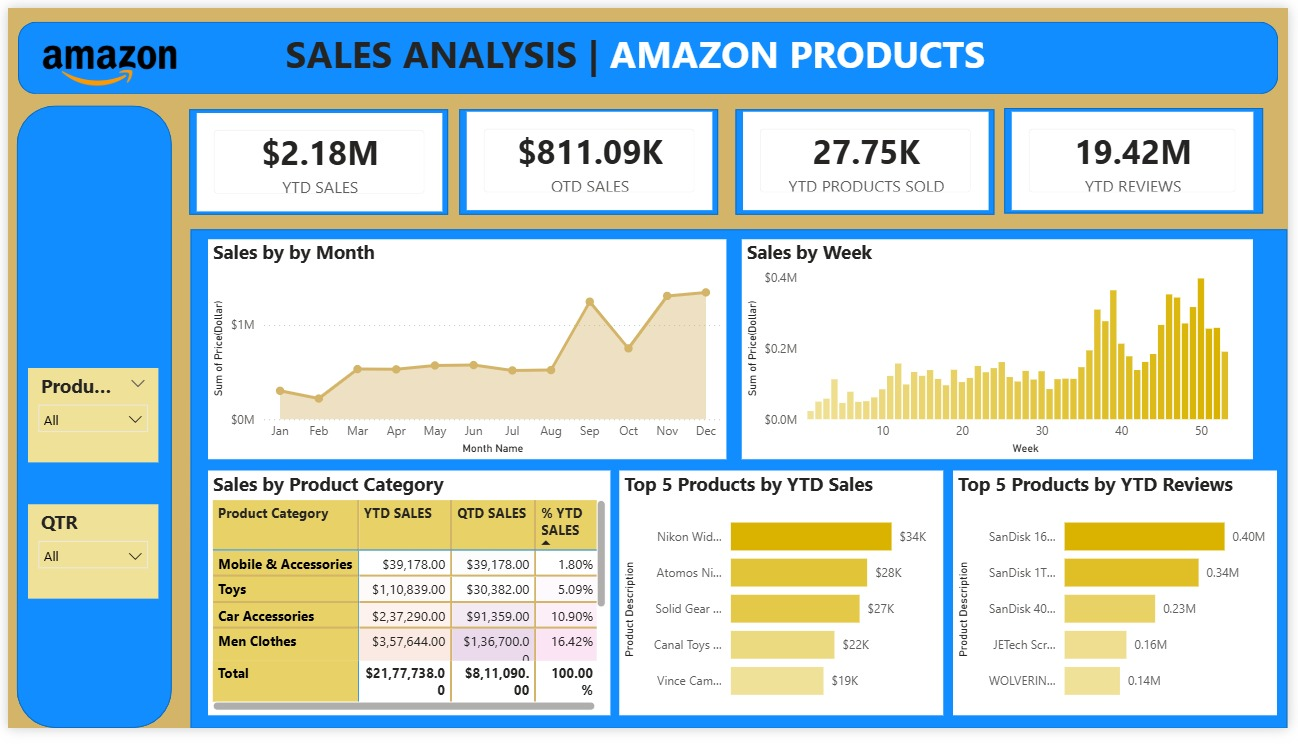

This screenshot's page, from the dashboard's own definition file:
{"tool":"powerbi","page":{"name":"Page 1","canvas":[1280,720],"ordinal":0},"visuals":[{"type":"shape","box":[9.8,13.5,1260.1,72.4],"z":0},{"type":"shape","box":[996.3,99.4,258.9,105.5],"z":0,"group":"g2"},{"type":"shape","box":[181.6,100.6,258.9,105.5],"z":0,"group":"g1"},{"type":"textbox","box":[273.1,15.1,731.4,63.1],"z":1000},{"type":"cardVisual","fields":{"Data":["Amazon_Data.YTD REVIEWS"]},"box":[1003.7,103.1,241.7,98.2],"z":1000,"group":"g2"},{"type":"cardVisual","fields":{"Data":["Amazon_Data.YTD SALES"]},"box":[189,104.3,245.4,98.2],"z":1000,"group":"g1"},{"type":"shape","box":[8.2,98.8,155,622],"z":2000},{"type":"group","id":"g1","title":"Group 1","box":[181.6,100.6,804.9,105.5],"z":2000,"group":"g2"},{"type":"shape","box":[451.5,100.6,258.9,105.5],"z":2000,"group":"g1"},{"type":"shape","box":[8.2,98,155,622],"z":3000},{"type":"shape","box":[727.6,100.6,258.9,105.5],"z":3000,"group":"g1"},{"type":"group","id":"g2","title":"Group 2","box":[181.6,99.4,1073.6,106.7],"z":4000},{"type":"cardVisual","fields":{"Data":["Amazon_Data.YTD SALES"]},"box":[458.9,103.1,245.4,98.2],"z":4000,"group":"g1"},{"type":"cardVisual","fields":{"Data":["Amazon_Data.YTD PRODUCTS SOLD"]},"box":[735,103.1,245.4,98.2],"z":5000,"group":"g1"},{"type":"shape","box":[182.8,220.9,1096.9,499.4],"z":5000},{"type":"areaChart","title":"Sales by by Month","fields":{"Category":["Date Table.Month Name"],"Y":["Sum(Amazon_Data.Price(Dollar))"]},"box":[200,231.4,518.6,220],"z":6000},{"type":"columnChart","title":"Sales by Week","fields":{"Category":["Date Table.Week"],"Y":["Sum(Amazon_Data.Price(Dollar))"]},"box":[734.3,231.4,511.4,220],"z":7000},{"type":"pivotTable","title":"Sales by Product Category","fields":{"Rows":["Amazon_Data.Product Category"],"Values":["Amazon_Data.YTD SALES1","Amazon_Data.QTD SALES","Amazon_Data.YTD SALES"]},"box":[200,462.2,402.2,257.8],"z":8000},{"type":"clusteredBarChart","title":"Top 5 Products by YTD Sales","fields":{"Category":["Amazon_Data.Product Description"],"Y":["Amazon_Data.YTD SALES"]},"box":[611.1,462.2,323.3,257.8],"z":9000},{"type":"clusteredBarChart","title":"Top 5 Products by YTD Reviews","fields":{"Category":["Amazon_Data.Product Description"],"Y":["Amazon_Data.YTD REVIEWS"]},"box":[945.6,462.2,323.3,257.8],"z":10000},{"type":"slicer","fields":{"Values":["Amazon_Data.Product Category"]},"box":[20,360,130,94.4],"z":11000},{"type":"slicer","fields":{"Values":["Date Table.QTR"]},"box":[20,496.7,130,94.4],"z":12000},{"type":"image","box":[0,0,203.7,115.3],"z":12001}]}

Visuals, with their boxes in screenshot pixels (x1, y1, x2, y2), scaled from the page's 1280x720 canvas onto the 1298x744 screenshot:
shape: pyautogui.locateOnScreen(10, 14, 1288, 89)
shape: pyautogui.locateOnScreen(1010, 103, 1273, 212)
shape: pyautogui.locateOnScreen(184, 104, 447, 213)
textbox: pyautogui.locateOnScreen(277, 16, 1019, 81)
cardVisual - Amazon_Data.YTD REVIEWS: pyautogui.locateOnScreen(1018, 107, 1263, 208)
cardVisual - Amazon_Data.YTD SALES: pyautogui.locateOnScreen(192, 108, 441, 209)
shape: pyautogui.locateOnScreen(8, 102, 165, 743)
"Group 1" group: pyautogui.locateOnScreen(184, 104, 1000, 213)
shape: pyautogui.locateOnScreen(458, 104, 720, 213)
shape: pyautogui.locateOnScreen(8, 101, 165, 743)
shape: pyautogui.locateOnScreen(738, 104, 1000, 213)
"Group 2" group: pyautogui.locateOnScreen(184, 103, 1273, 213)
cardVisual - Amazon_Data.YTD SALES: pyautogui.locateOnScreen(465, 107, 714, 208)
cardVisual - Amazon_Data.YTD PRODUCTS SOLD: pyautogui.locateOnScreen(745, 107, 994, 208)
shape: pyautogui.locateOnScreen(185, 228, 1297, 743)
"Sales by by Month" areaChart: pyautogui.locateOnScreen(203, 239, 729, 466)
"Sales by Week" columnChart: pyautogui.locateOnScreen(745, 239, 1263, 466)
"Sales by Product Category" pivotTable: pyautogui.locateOnScreen(203, 478, 611, 743)
"Top 5 Products by YTD Sales" clusteredBarChart: pyautogui.locateOnScreen(620, 478, 948, 743)
"Top 5 Products by YTD Reviews" clusteredBarChart: pyautogui.locateOnScreen(959, 478, 1287, 743)
slicer - Amazon_Data.Product Category: pyautogui.locateOnScreen(20, 372, 152, 470)
slicer - Date Table.QTR: pyautogui.locateOnScreen(20, 513, 152, 611)
image: pyautogui.locateOnScreen(0, 0, 207, 119)
